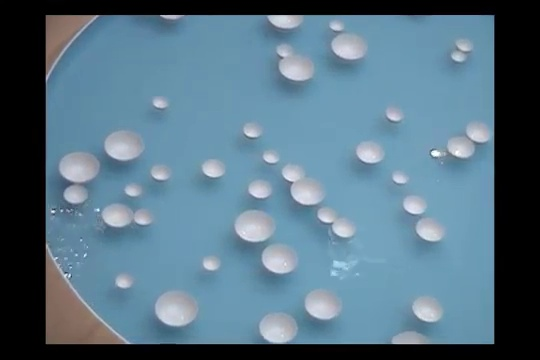bowl: (154, 291, 199, 327), (234, 210, 276, 243), (58, 152, 101, 183), (258, 312, 298, 344), (304, 288, 343, 320), (104, 131, 145, 161), (261, 243, 298, 275), (278, 56, 315, 83), (290, 179, 328, 205), (331, 34, 366, 60), (412, 295, 444, 322), (101, 204, 133, 227), (415, 218, 444, 242), (356, 141, 385, 164), (447, 137, 477, 158), (464, 121, 491, 144), (267, 14, 304, 29), (390, 331, 431, 344), (402, 195, 428, 214), (63, 185, 89, 204), (248, 179, 272, 199), (332, 219, 357, 237), (202, 159, 225, 178), (281, 164, 306, 181), (133, 209, 154, 226), (150, 165, 172, 181), (316, 207, 337, 223), (202, 255, 221, 272), (243, 122, 263, 138), (386, 106, 404, 122), (115, 274, 134, 289), (124, 183, 143, 196), (277, 44, 295, 57), (392, 171, 410, 184), (451, 50, 468, 63), (263, 150, 280, 163), (456, 39, 474, 51), (158, 13, 185, 21), (152, 96, 169, 108), (329, 19, 345, 31)
